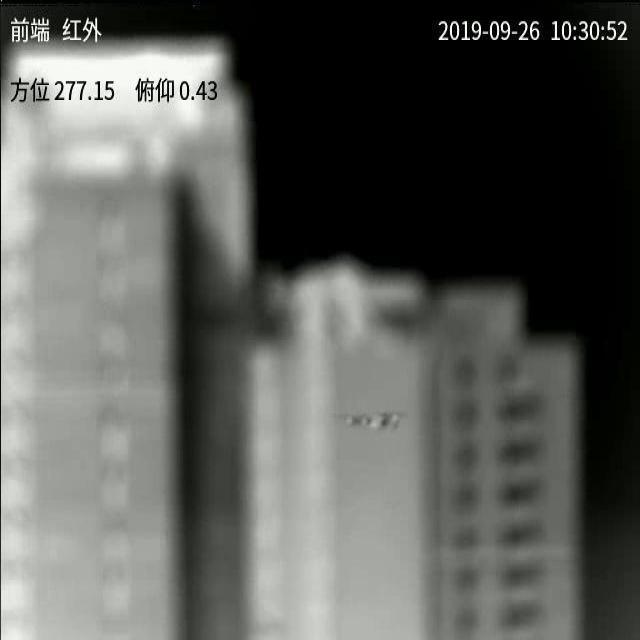drone: (345, 414, 401, 430)
